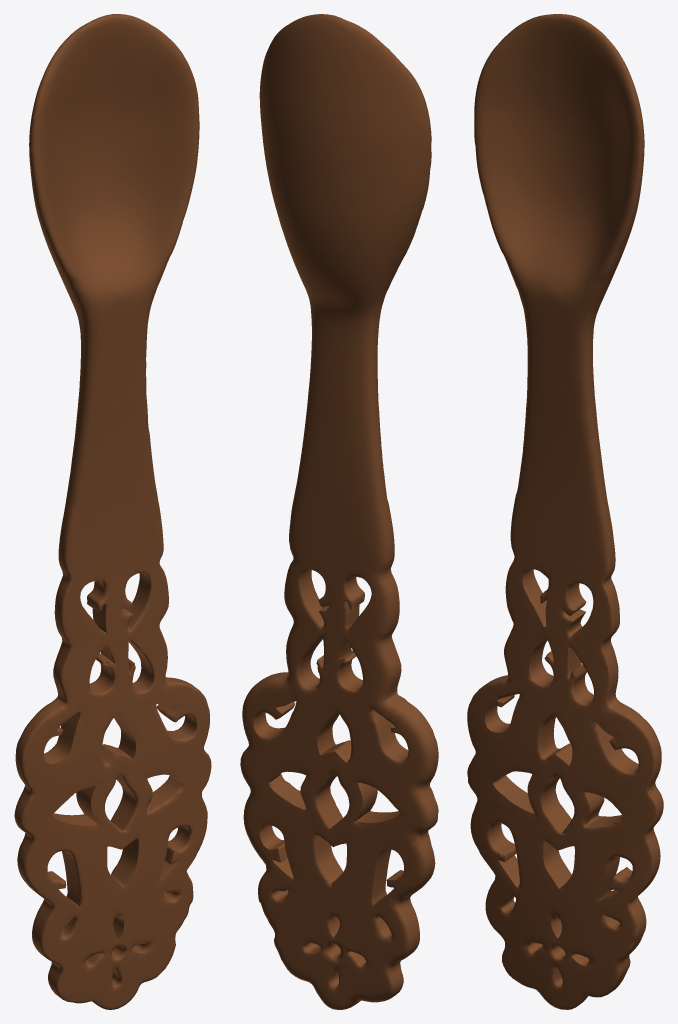
The model's file is wooden-spoon.glb.
3 renders of one model, left to right at view 1: azimuth 30°, elevation 25°; view 2: azimuth 150°, elevation 25°; view 3: azimuth 330°, elevation 25°, orthographic.
Parts seen in each view (by area): view 1: wooden-spoon; view 2: wooden-spoon; view 3: wooden-spoon.
Boxes of the visible parts, x1,y1,x2,y2 form: wooden-spoon: (14,14,211,1009); wooden-spoon: (240,14,438,1009); wooden-spoon: (467,14,663,1009).
Size of the model in its own units: 0.0567 by 0.28 by 0.0167.
